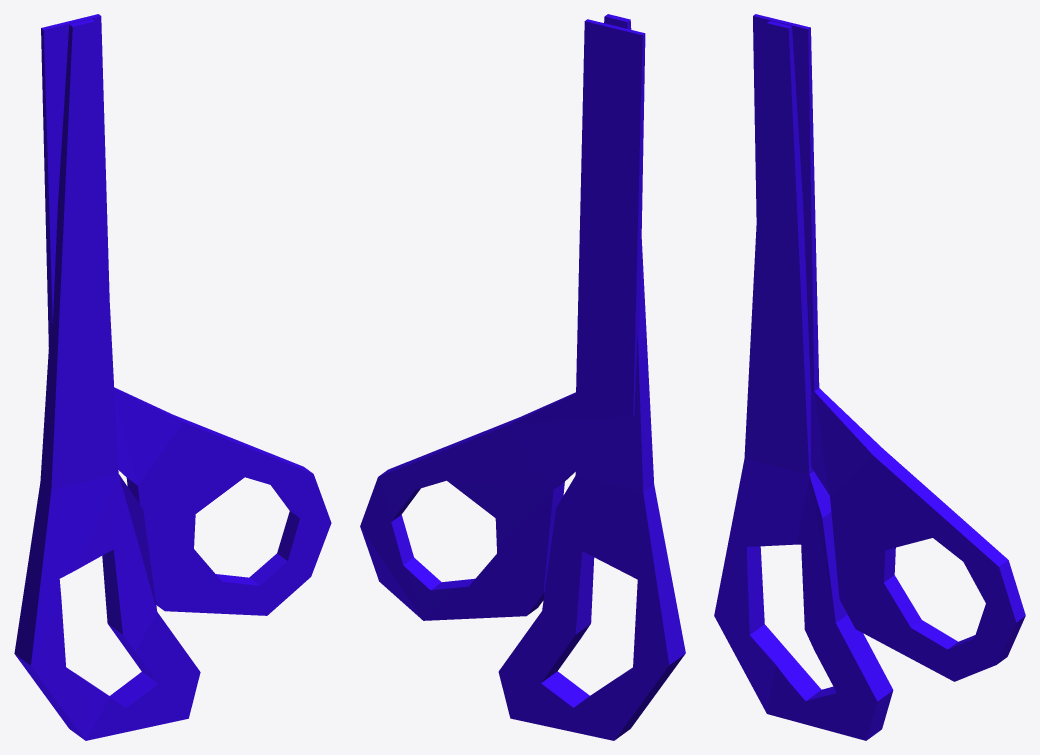
File: office_pack_scissors_1_meshCollider.fbx
3 views of the same model, side by side, from view 1: azimuth 30°, elevation 25°; view 2: azimuth 150°, elevation 25°; view 3: azimuth 330°, elevation 25° (orthographic). The views are drawn at different scales.
Parts seen in each view (by area): view 1: office_pack_scissors_1_meshCollider, office_pack_scissors_1_part2_meshCollider; view 2: office_pack_scissors_1_part2_meshCollider, office_pack_scissors_1_meshCollider; view 3: office_pack_scissors_1_meshCollider, office_pack_scissors_1_part2_meshCollider.
Boxes of the visible parts, x1,y1,x2,y2 form: office_pack_scissors_1_meshCollider: (14, 19, 200, 740); office_pack_scissors_1_part2_meshCollider: (41, 14, 331, 615); office_pack_scissors_1_part2_meshCollider: (360, 19, 645, 620); office_pack_scissors_1_meshCollider: (498, 14, 685, 740); office_pack_scissors_1_meshCollider: (714, 20, 893, 740); office_pack_scissors_1_part2_meshCollider: (753, 14, 1025, 681).
Bounding box in the file's own units: 10.19 × 22.62 × 1.02.
